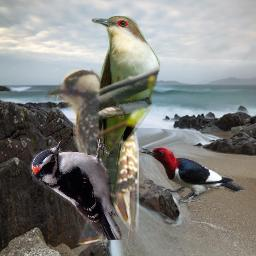Cuckoo: (91, 15, 162, 224)
Woodpecker: (44, 68, 139, 245), (30, 139, 122, 240), (135, 144, 246, 206)
